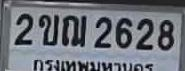2: (14, 13, 32, 45), (93, 16, 111, 47), (135, 17, 152, 49)
6: (115, 17, 131, 47)
8: (157, 19, 173, 50)
A02: (38, 13, 58, 45)
A12: (61, 14, 86, 46)
BKK: (32, 58, 156, 71)
